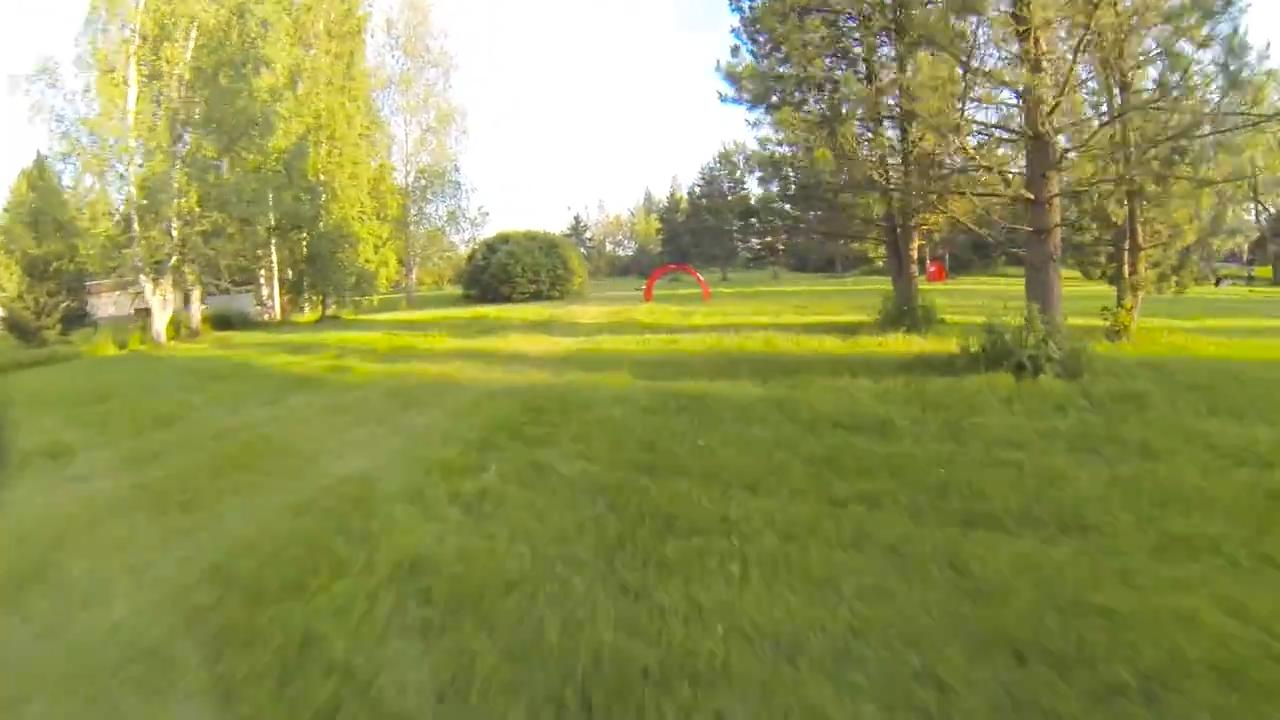gate: (642, 264, 712, 302)
